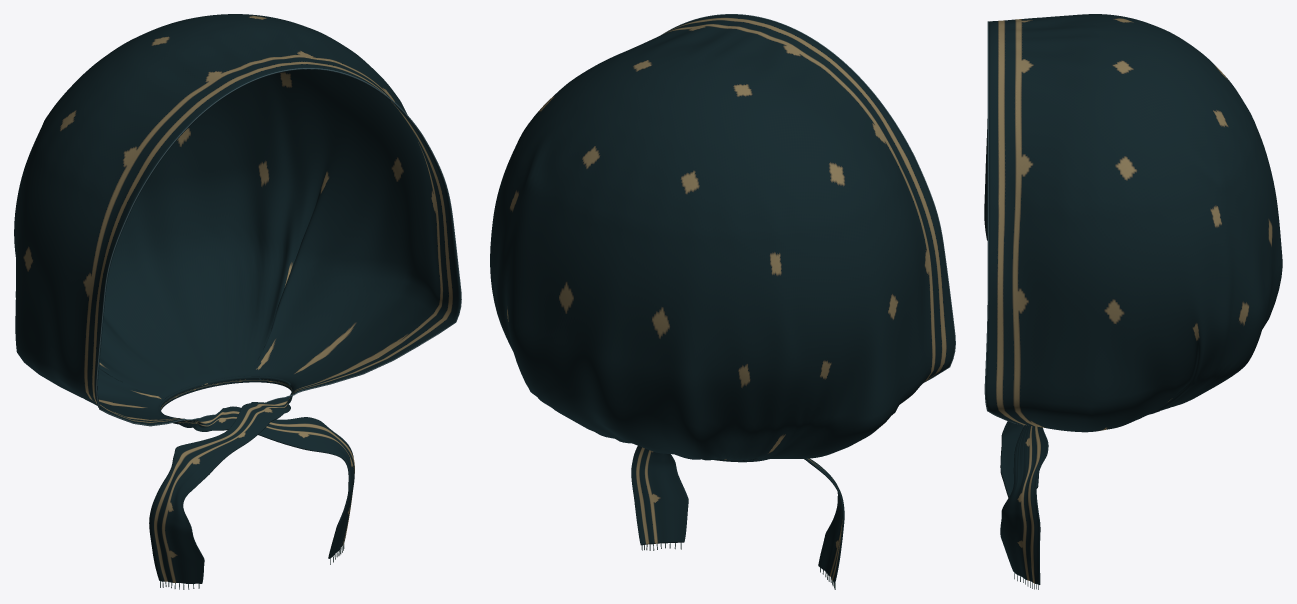
File: Feminine-jersey-pashmina246-headgear.glb
The picture shows the model from 3 angles, left to right: view 1: azimuth 30°, elevation 25°; view 2: azimuth 150°, elevation 25°; view 3: azimuth 270°, elevation 25°; orthographic projection. The views are drawn at different scales.
Visible parts, largest first — view 1: 226 headgear / Headwear / continuous woven pashmina239, 226 headgear / Headwear / face edge239; view 2: 226 headgear / Headwear / continuous woven pashmina239, 226 headgear / Headwear / face edge239; view 3: 226 headgear / Headwear / continuous woven pashmina239, 226 headgear / Headwear / face edge239.
Part boxes in pixels (x1=…): 226 headgear / Headwear / continuous woven pashmina239: x1=14, y1=14, x2=460, y2=583; 226 headgear / Headwear / face edge239: x1=96, y1=68, x2=461, y2=426; 226 headgear / Headwear / continuous woven pashmina239: x1=490, y1=14, x2=954, y2=583; 226 headgear / Headwear / face edge239: x1=662, y1=14, x2=955, y2=383; 226 headgear / Headwear / continuous woven pashmina239: x1=984, y1=14, x2=1282, y2=584; 226 headgear / Headwear / face edge239: x1=984, y1=21, x2=1028, y2=425.
Bounding box in the file's own units: 1.02 × 1.35 × 0.7116.
Materials: 3 (1 with a texture image).
